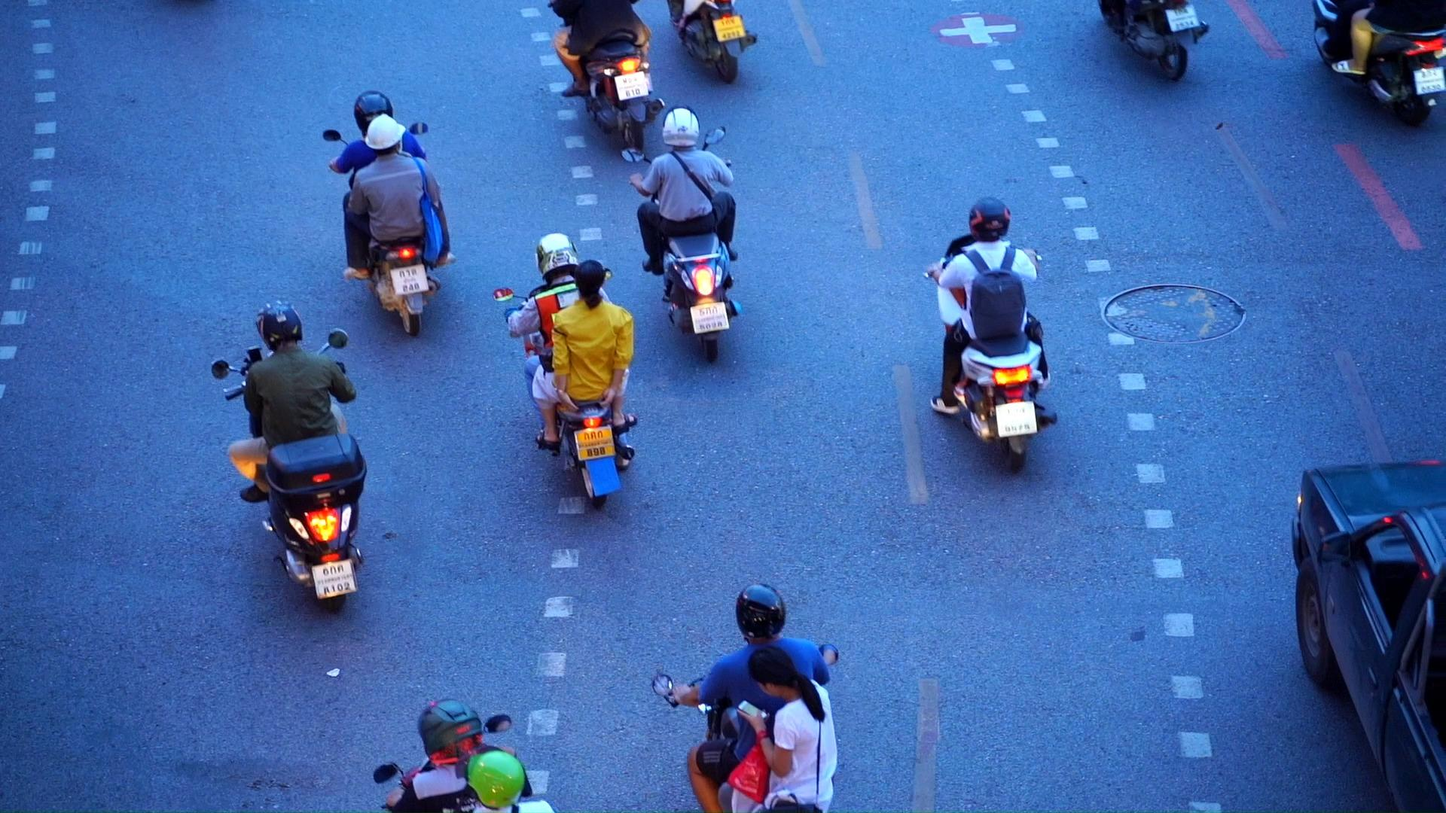driver: (212, 298, 367, 616), (651, 582, 840, 813), (491, 232, 639, 509), (922, 196, 1057, 473), (323, 90, 457, 336), (620, 103, 742, 362), (372, 696, 555, 813), (546, 0, 668, 153), (1311, 0, 1446, 128)
helmet: (417, 696, 484, 766), (456, 745, 527, 810), (736, 582, 786, 639), (255, 299, 303, 352), (535, 233, 580, 282), (969, 196, 1011, 242), (354, 90, 393, 138), (365, 113, 406, 156), (662, 103, 700, 148)
no-helmet: (748, 645, 822, 699), (574, 259, 606, 311)
